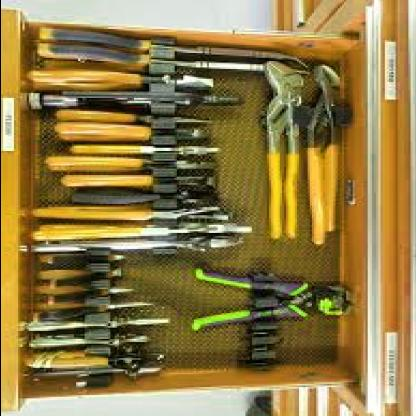Tool Box: (1, 19, 376, 402)
